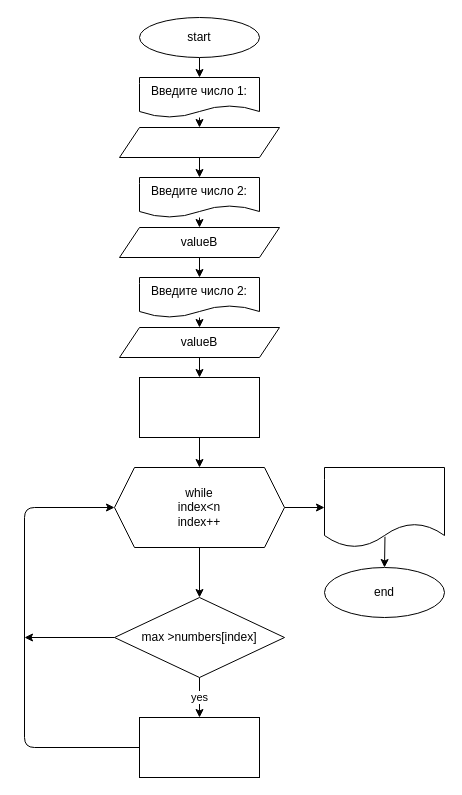
Some shapes in this 462 by 795 pixel diagram are drawn without their labels. Here are the shapes that lost their labels. From the top down, the centre of each, then its label:
At point 199,142: "valueA".
At point 199,407: "index=0 max=numbers[0] n = numbers.Length".
At point 384,507: "print max".
At point 199,747: "max = number[index]".
